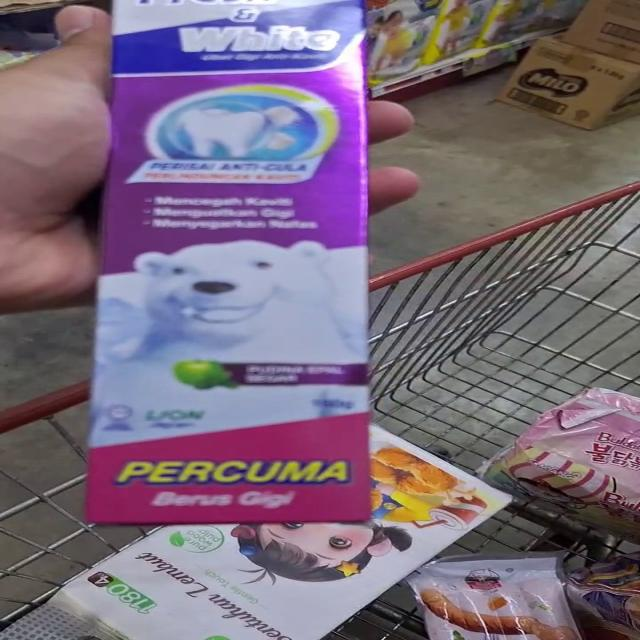Tisu: (27, 535, 350, 640), (391, 443, 529, 564)
Ubat Gigi: (46, 229, 390, 525), (77, 1, 388, 245)
